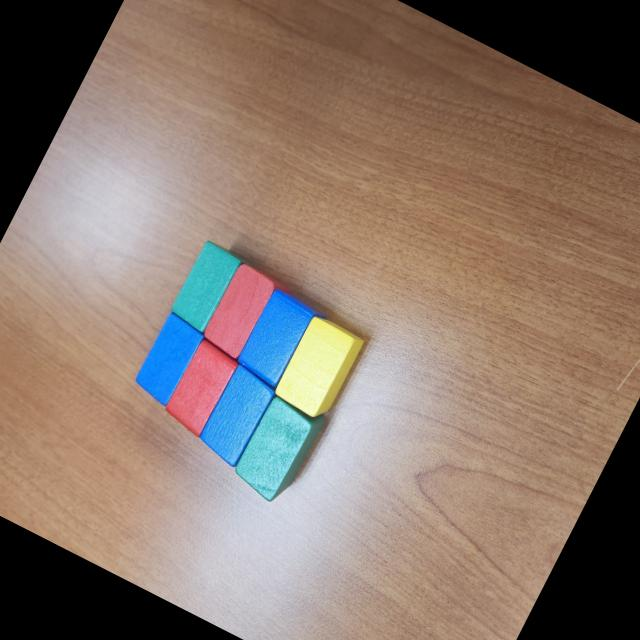blue: (232, 287, 330, 398), (192, 361, 280, 470), (129, 311, 207, 408)
green: (226, 387, 330, 509), (166, 238, 243, 338)
red: (198, 261, 294, 370), (158, 336, 241, 439)
yellow: (270, 313, 366, 426)
